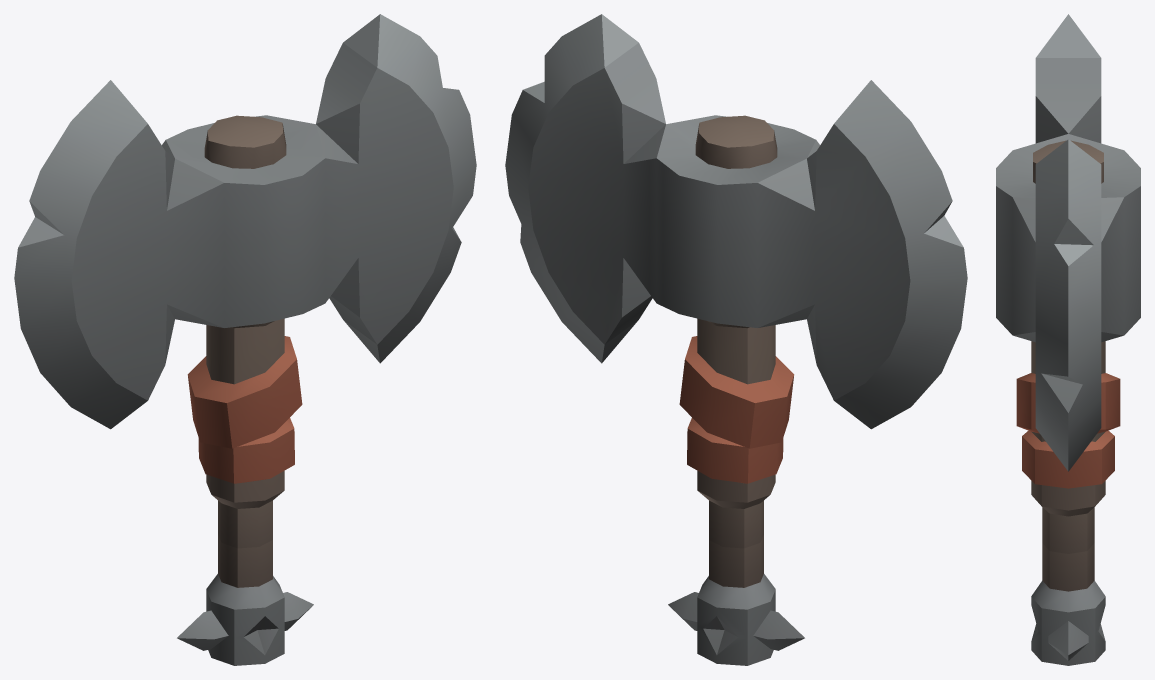
File: w_k_axe.glb
3 views of the same model, side by side, from view 1: azimuth 30°, elevation 25°; view 2: azimuth 150°, elevation 25°; view 3: azimuth 270°, elevation 25° (orthographic). The views are drawn at different scales.
Parts seen in each view (by area): view 1: Skeleton_Axe; view 2: Skeleton_Axe; view 3: Skeleton_Axe.
Part boxes in pixels (x1,y1,x2,y2): Skeleton_Axe: (14, 14, 476, 665); Skeleton_Axe: (505, 14, 967, 665); Skeleton_Axe: (996, 14, 1140, 665).
Bounding box in the file's own units: 0.9885 × 1.25 × 0.2818.
1 material, 1 textured.
